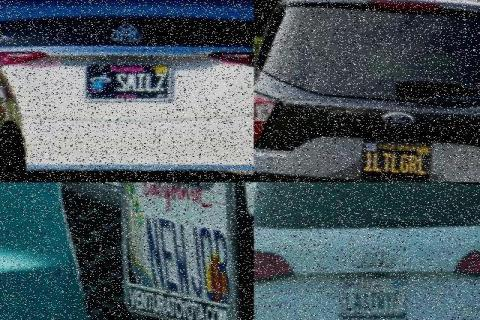LicensePlate: (99, 182, 253, 320), (363, 132, 446, 180), (338, 268, 414, 320), (85, 60, 174, 98)
